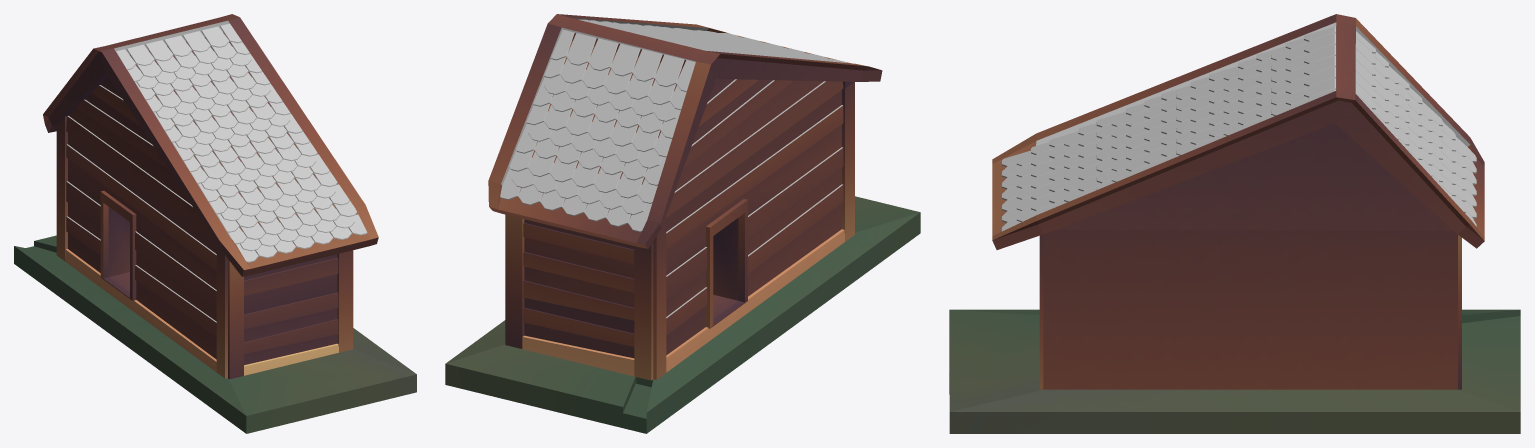
File: House_Birdhouse04.fbx
3 views of the same model, side by side, from view 1: azimuth 30°, elevation 25°; view 2: azimuth 150°, elevation 25°; view 3: azimuth 270°, elevation 25° (orthographic). The views are drawn at different scales.
Parts seen in each view (by area): view 1: Cube.003; view 2: Cube.003; view 3: Cube.003.
Boxes of the visible parts, <box> form: Cube.003: <box>14,14,416,433</box>; Cube.003: <box>445,14,920,433</box>; Cube.003: <box>949,14,1520,433</box>.
Size of the model in its own units: 275 by 407 by 648.
